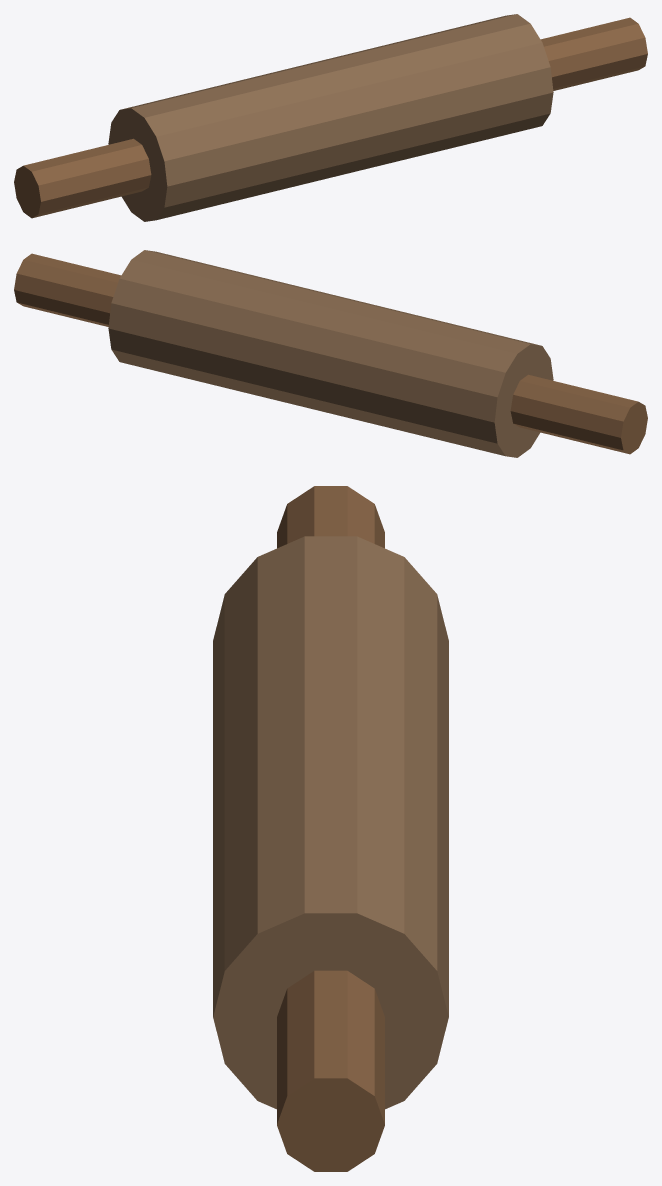
Rendered from L-04_rolling_pin.glb.
3 views of the same model, one above another, from view 1: azimuth 30°, elevation 25°; view 2: azimuth 150°, elevation 25°; view 3: azimuth 270°, elevation 25° (orthographic). The views are drawn at different scales.
Parts seen in each view (by area): view 1: L-04_rolling_pin; view 2: L-04_rolling_pin; view 3: L-04_rolling_pin.
Boxes of the visible parts, x1=… form: L-04_rolling_pin: x1=14, y1=14, x2=647, y2=221; L-04_rolling_pin: x1=14, y1=250, x2=647, y2=457; L-04_rolling_pin: x1=213, y1=486, x2=448, y2=1171.
Bounding box in the file's own units: 0.44 × 0.0721 × 0.074.
